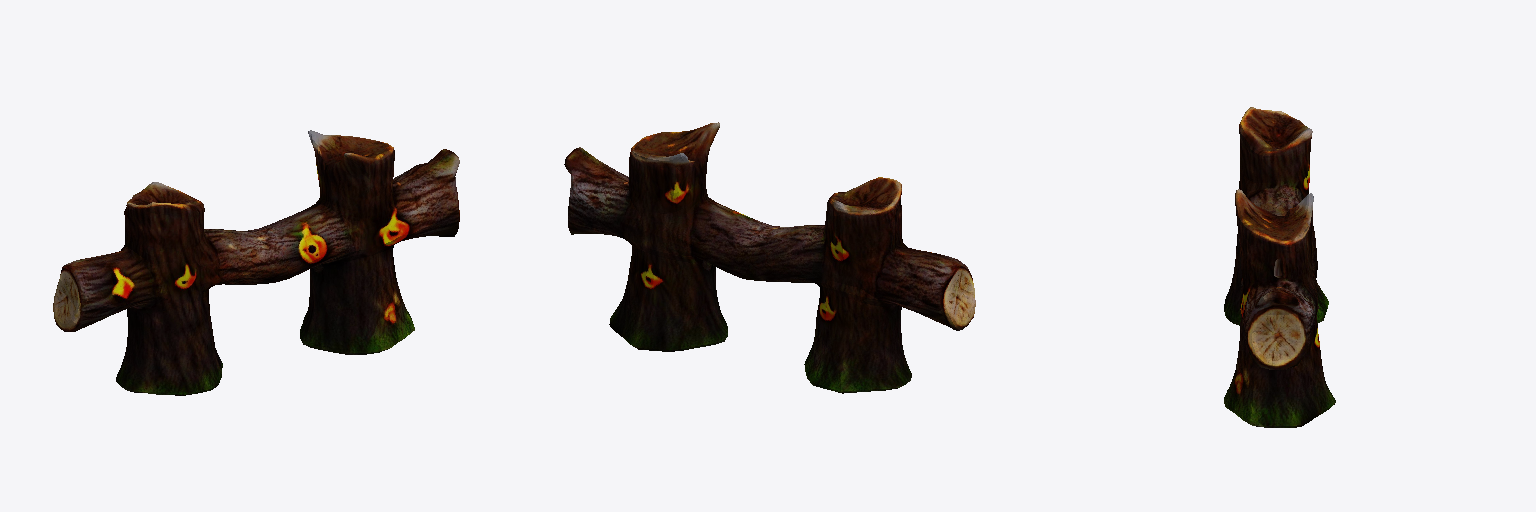
3 renders of one model, left to right at view 1: azimuth 30°, elevation 25°; view 2: azimuth 150°, elevation 25°; view 3: azimuth 270°, elevation 25°, orthographic.
Visible parts, largest first — view 1: mesh; view 2: mesh; view 3: mesh.
Boxes of the visible parts, x1=… form: mesh: x1=53, y1=130, x2=459, y2=395; mesh: x1=564, y1=122, x2=975, y2=393; mesh: x1=1224, y1=107, x2=1335, y2=427.
Bounding box in the file's own units: 0.9991 × 0.4889 × 0.2478.
1 materials, 1 textured.